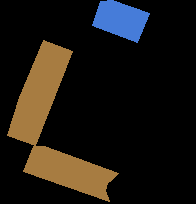parkingspot: (7, 40, 72, 145), (23, 146, 118, 201), (92, 0, 149, 42)
